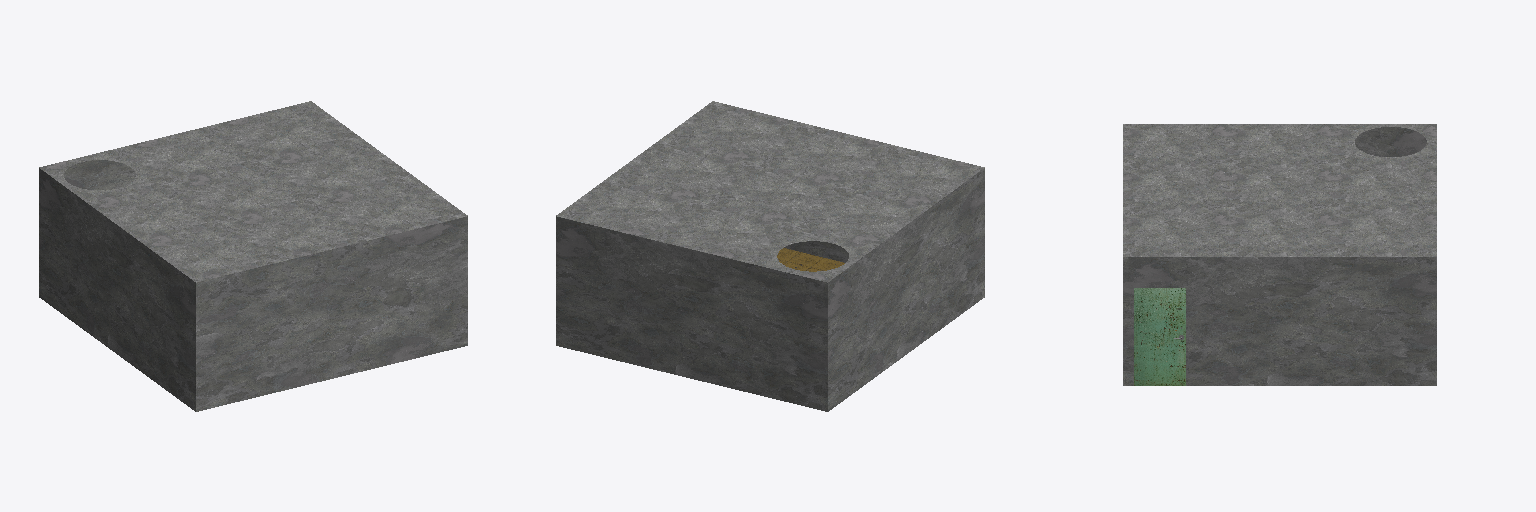
The picture shows the model from 3 angles: view 1: azimuth 30°, elevation 25°; view 2: azimuth 150°, elevation 25°; view 3: azimuth 270°, elevation 25°; orthographic projection.
Parts seen in each view (by area): view 1: Cube.002_Cube.004; view 2: Cube.002_Cube.004; view 3: Cube.002_Cube.004, vrata.001_Cube.013.
Part boxes in pixels (x1,y1,x2,y2): Cube.002_Cube.004: (39, 101, 467, 411); Cube.002_Cube.004: (556, 101, 984, 411); Cube.002_Cube.004: (1123, 124, 1436, 385); vrata.001_Cube.013: (1134, 288, 1185, 385).
Bounding box in the file's own units: 5.83 × 2.6 × 5.73.
6 materials, 5 textured.